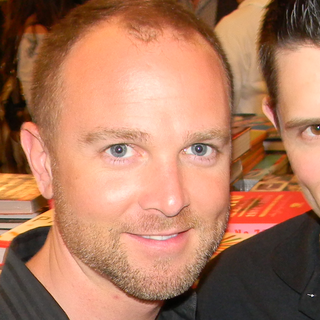eye: (96, 139, 144, 164), (178, 139, 224, 163)
